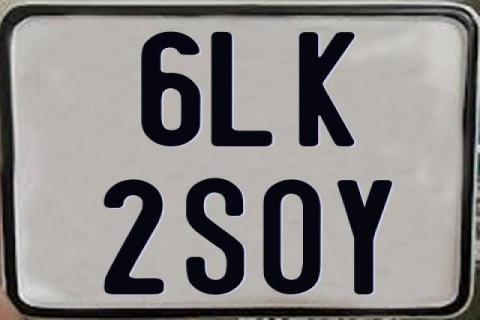0: (102, 178, 166, 296), (261, 180, 323, 296), (138, 31, 197, 146)
K: (296, 30, 355, 146)
L: (209, 31, 270, 151)
S: (183, 177, 241, 297)
Y: (335, 179, 391, 293)
